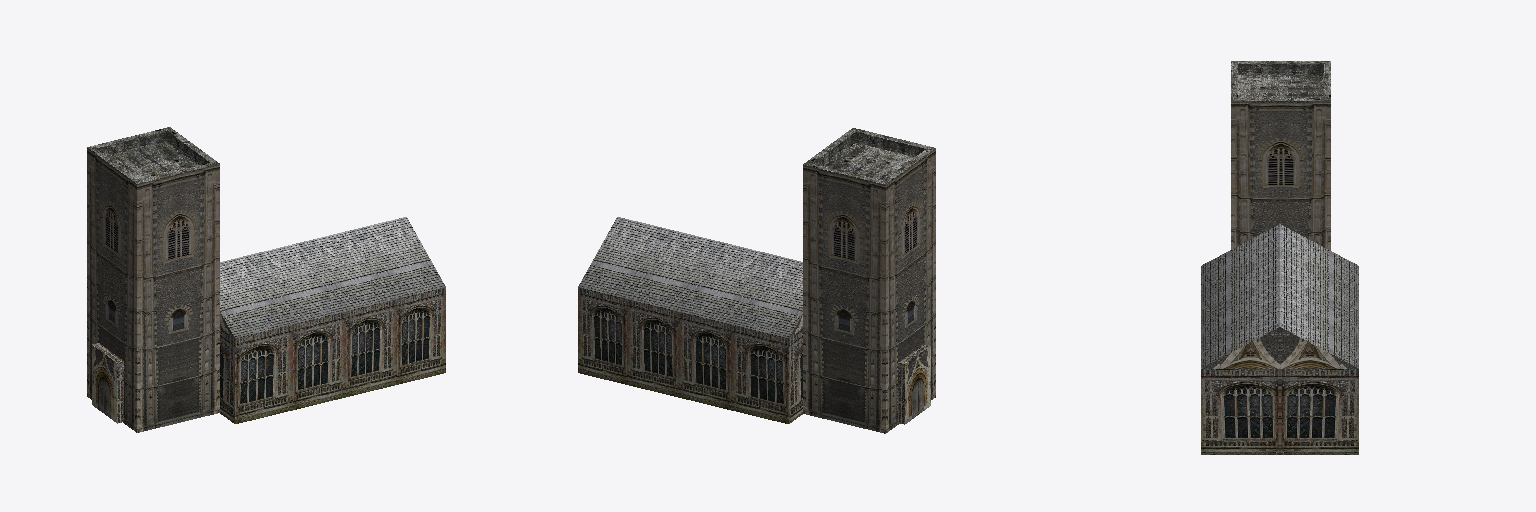
3 views of the same model, side by side, from view 1: azimuth 30°, elevation 25°; view 2: azimuth 150°, elevation 25°; view 3: azimuth 270°, elevation 25° (orthographic).
Parts seen in each view (by area): view 1: church; view 2: church; view 3: church.
Part boxes in pixels (left/top/right/bottom): church: left=87, top=127, right=445, bottom=432; church: left=578, top=128, right=935, bottom=433; church: left=1201, top=61, right=1358, bottom=454.
Bounding box in the file's own units: 896 × 711 × 405.
1 materials, 1 textured.